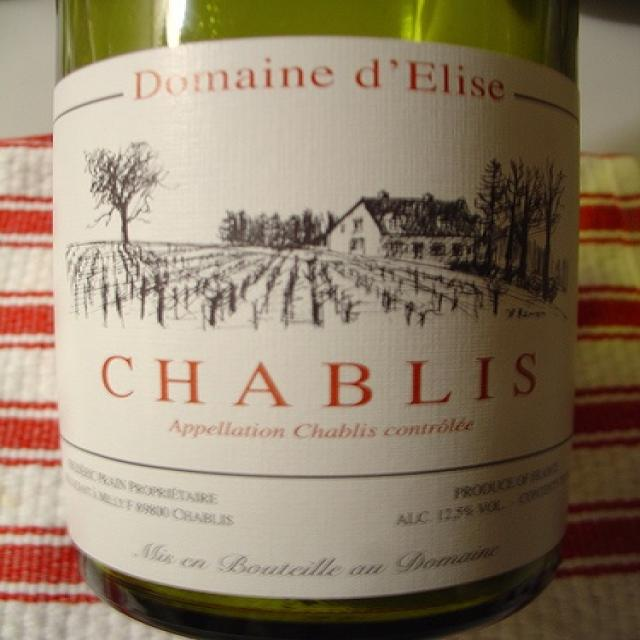bottle: (58, 0, 579, 639)
